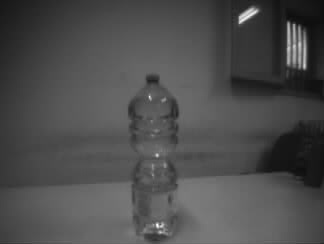Bottle: (127, 73, 181, 240)
